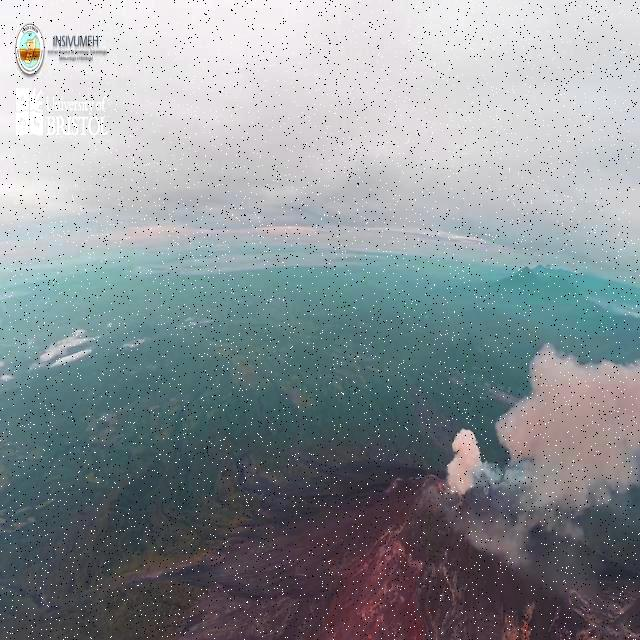Plume: (492, 338, 640, 520), (448, 412, 488, 514)
Summit: (418, 454, 469, 535)
